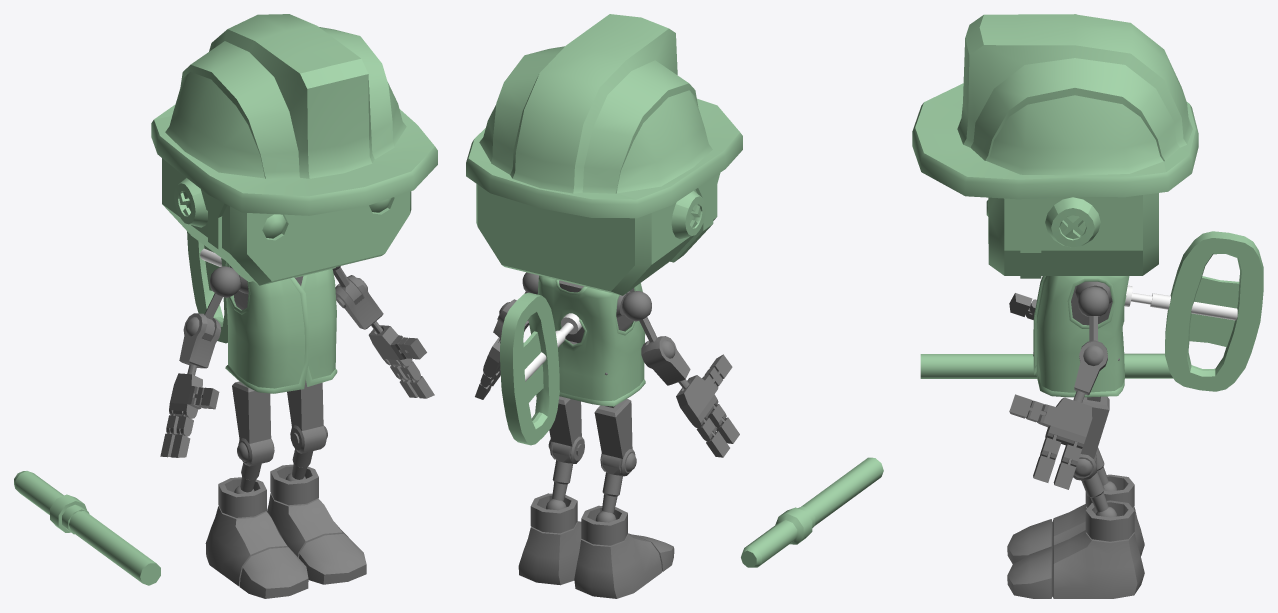
File: npc_construction01_noRig_2.fbx
The picture shows the model from 3 angles, left to right: view 1: azimuth 30°, elevation 25°; view 2: azimuth 150°, elevation 25°; view 3: azimuth 270°, elevation 25°; orthographic projection. The views are drawn at different scales.
Parts seen in each view (by area): view 1: hat, body, head_02, clothes, glowstick, spring, ear; view 2: hat, body, head_02, clothes, spring, glowstick, ear; view 3: hat, body, spring, head_02, clothes, glowstick, ear.
Part boxes in pixels (left/top/right/bottom): hat: left=151, top=14, right=437, bottom=281; body: left=160, top=248, right=434, bottom=598; head_02: left=162, top=158, right=411, bottom=285; clothes: left=225, top=261, right=337, bottom=393; glowstick: left=14, top=471, right=160, bottom=585; spring: left=187, top=231, right=227, bottom=343; ear: left=174, top=178, right=207, bottom=227; hat: left=466, top=14, right=742, bottom=262; body: left=475, top=272, right=739, bottom=598; head_02: left=476, top=184, right=717, bottom=295; clothes: left=537, top=275, right=645, bottom=406; spring: left=500, top=292, right=559, bottom=445; glowstick: left=741, top=457, right=883, bottom=567; ear: left=671, top=190, right=706, bottom=238; hat: left=912, top=14, right=1198, bottom=278; body: left=1007, top=281, right=1237, bottom=598; spring: left=1165, top=231, right=1263, bottom=391; head_02: left=986, top=193, right=1158, bottom=275; clothes: left=1033, top=276, right=1129, bottom=397; glowstick: left=920, top=353, right=1173, bottom=378; ear: left=1045, top=197, right=1100, bottom=247.
Bounding box in the file's own units: 72.67 × 105 × 61.4.
